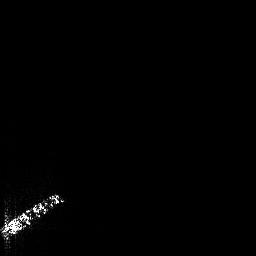ship: (1, 191, 64, 238)
